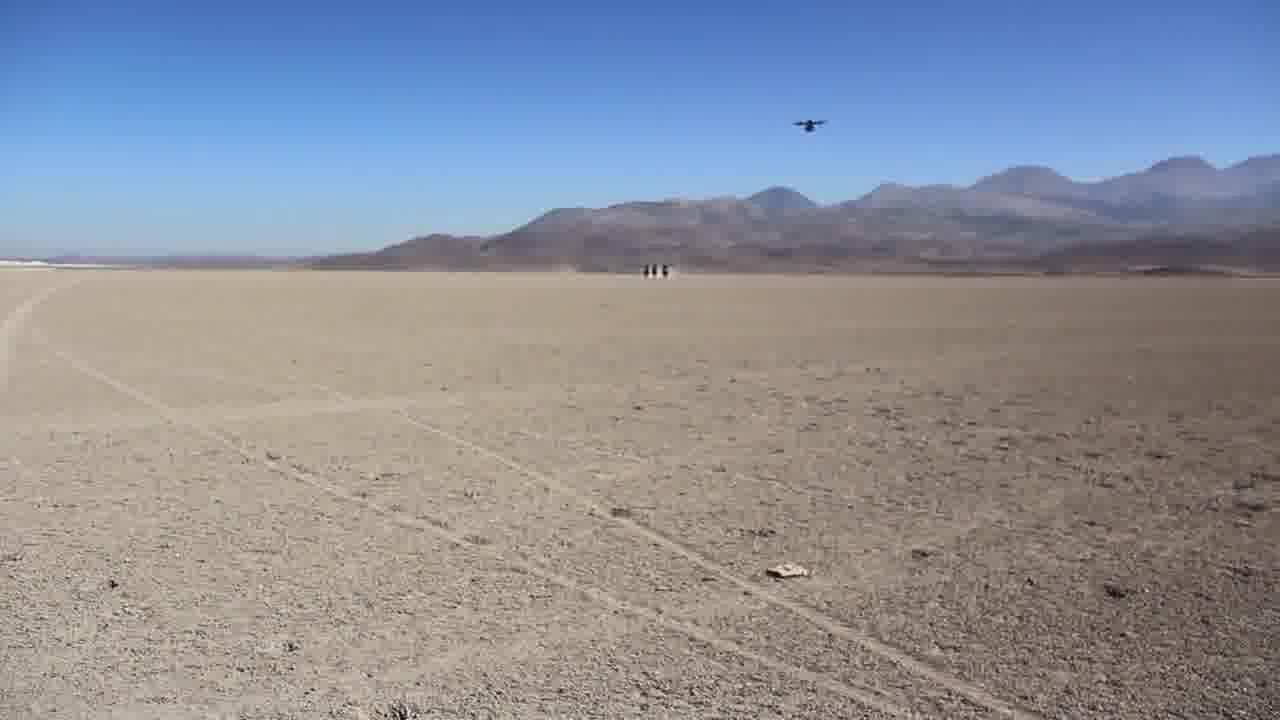drone: (787, 110, 829, 136)
